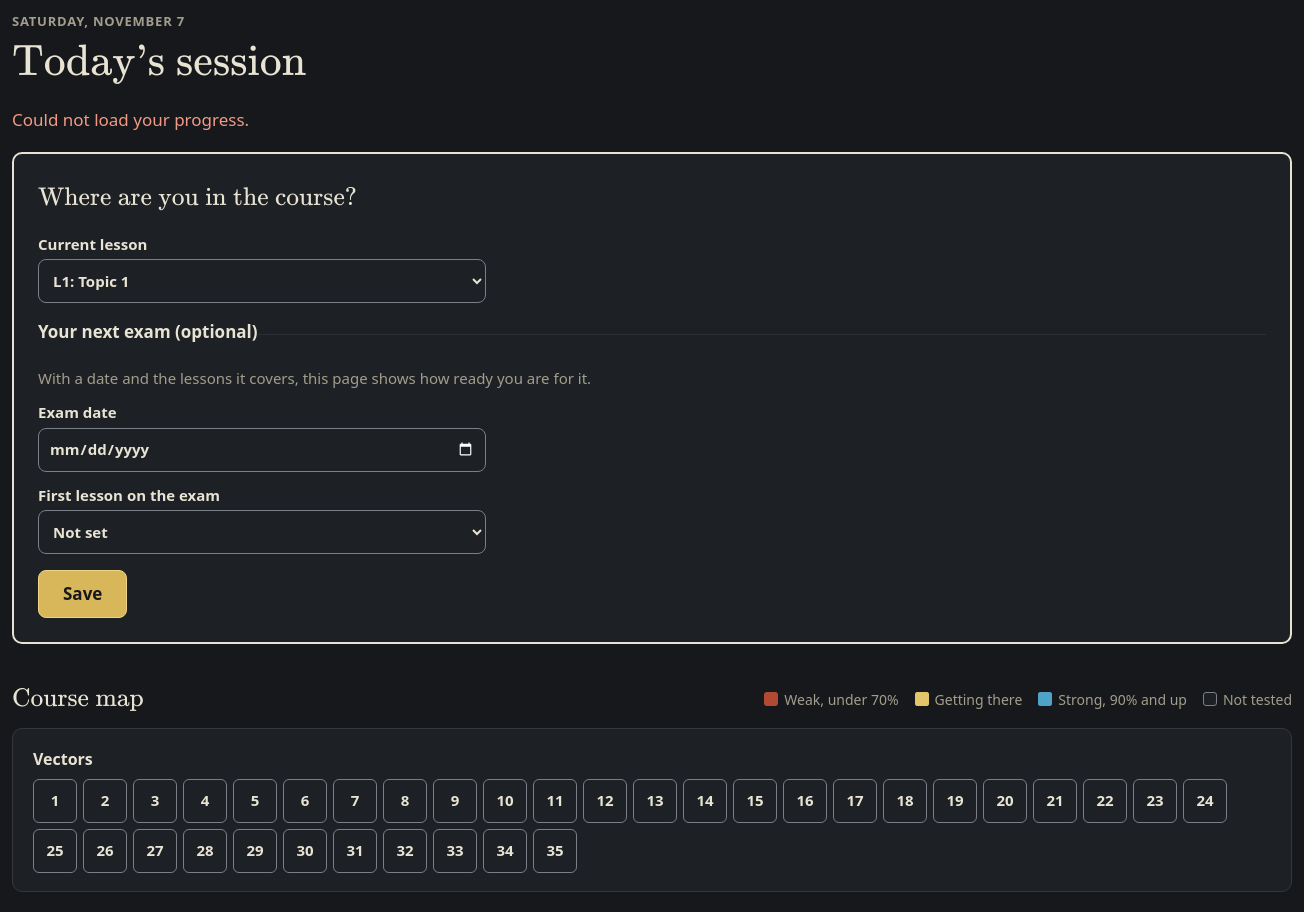
Test: a load error clears once progress loads after a settings change
The image size is (1304, 912).
Expected: the heading "Today's session" is shown, [12,35,306,87]
Expected: the message reads "Could not load your progress.", [12,108,249,131]
Step 1. Select "L20: Topic 20" in the dropdown labelled "Current lesson" → (262, 281), box [38,259,486,303]
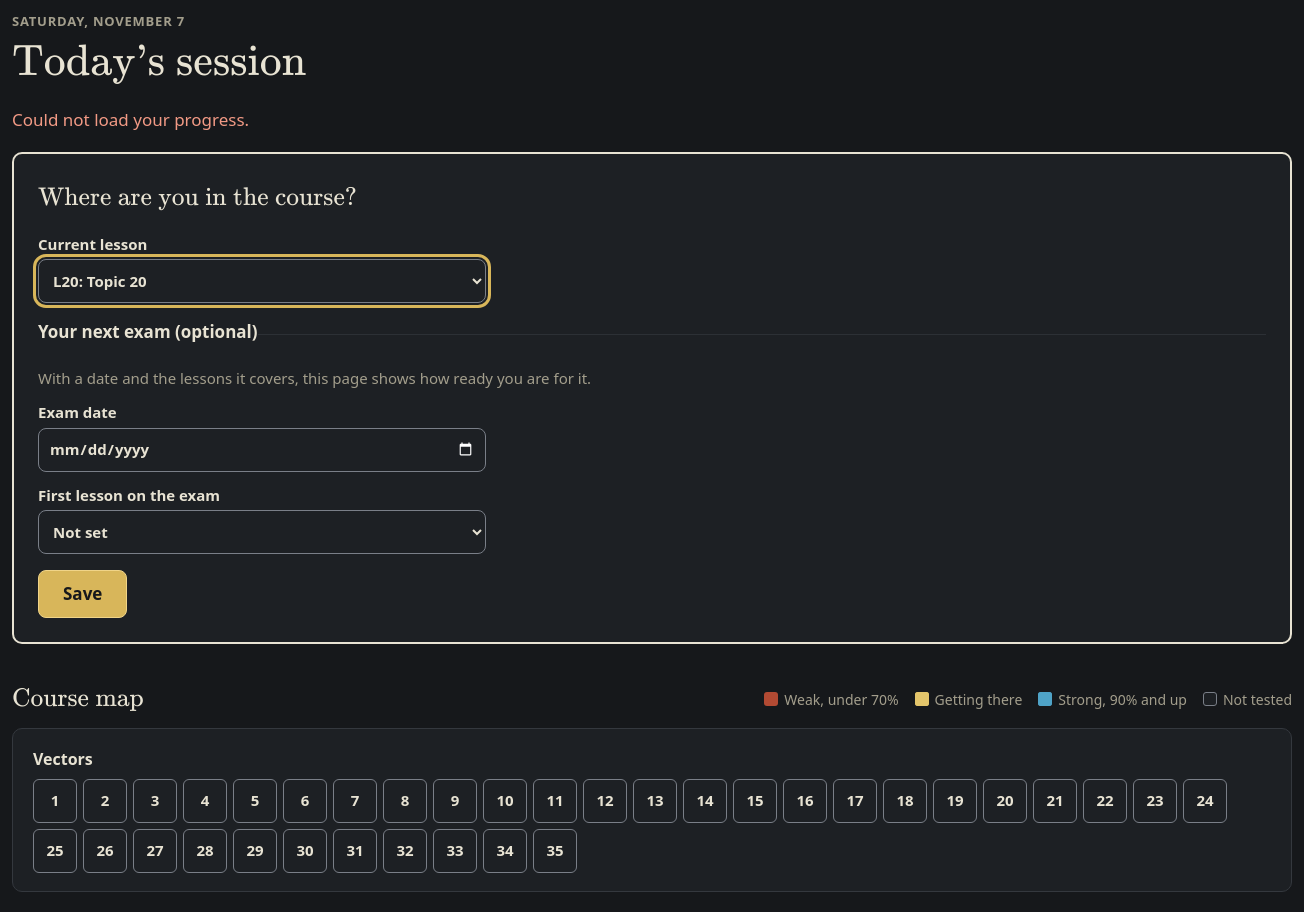
Step 2. Click the button "Save" → click(83, 594), box [38,570,127,618]
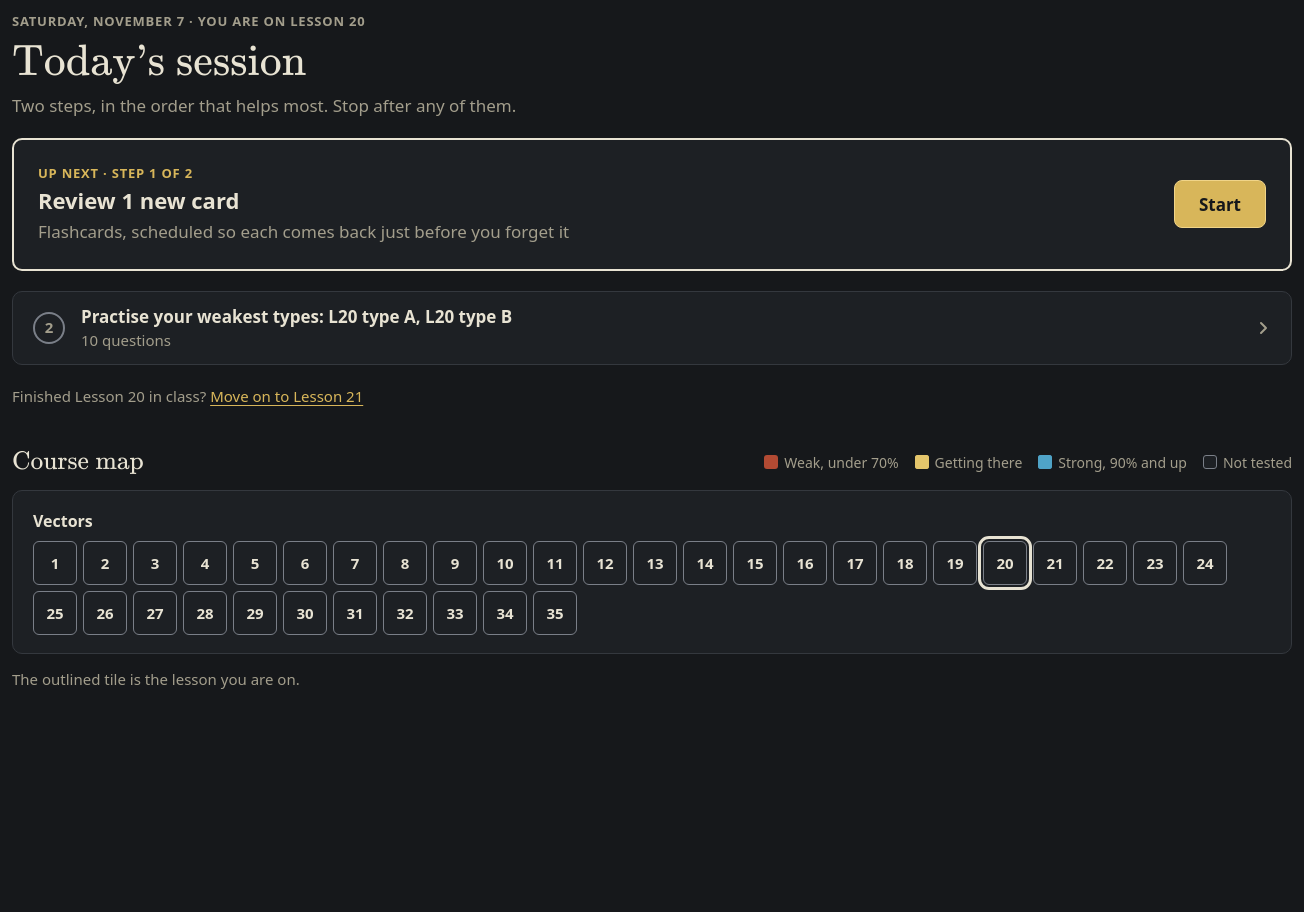
Expected: the message "Could not load your progress." is gone
Expected: the text "Saturday, November 7 · You are on Lesson 20" is shown, [12,12,365,30]
